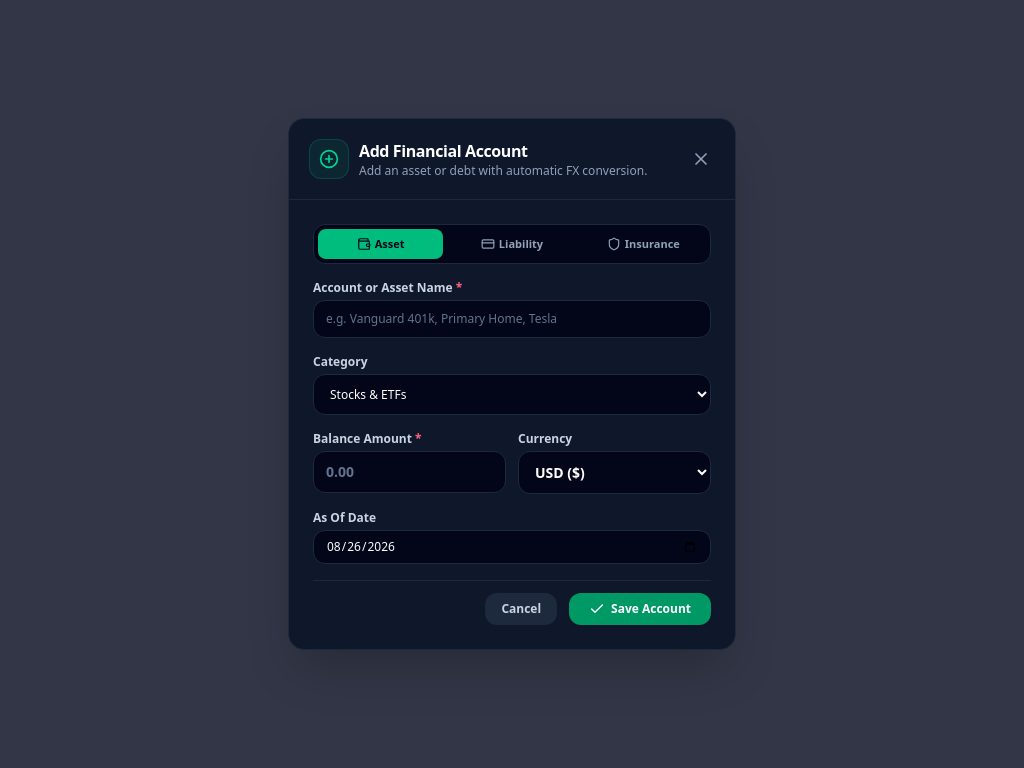
Test: AddItemModal › selects existing categories and auto updates type
Select "Mortgage" in the dropdown below "Category" at (512, 395), box [313, 374, 711, 415]
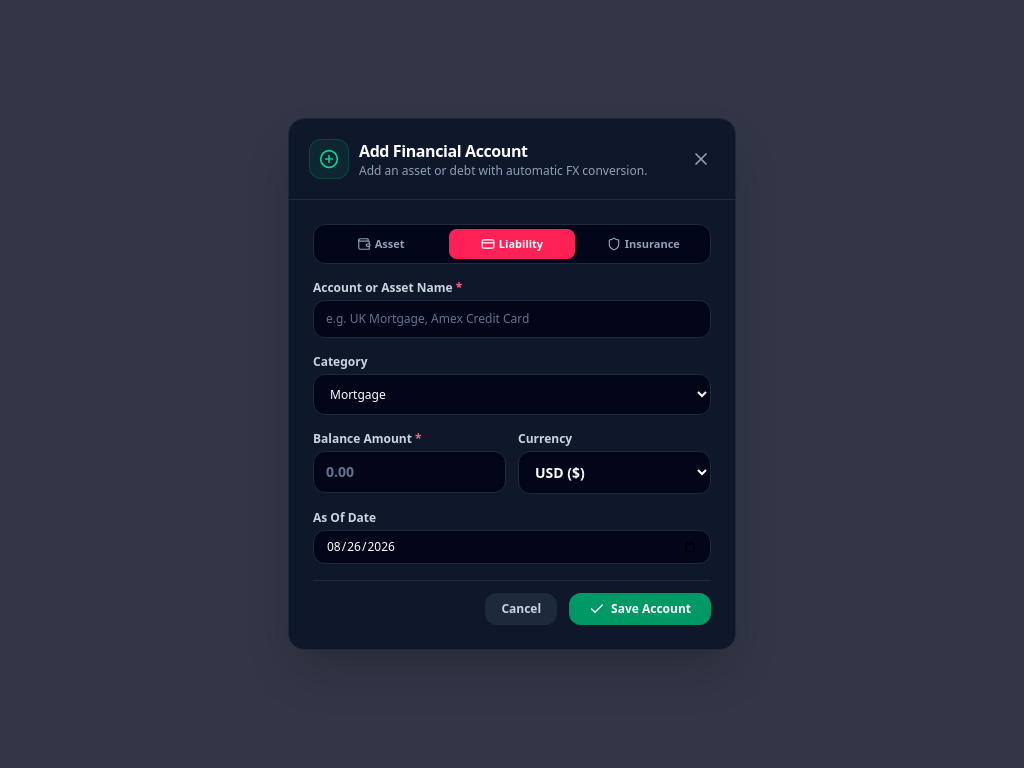
Expected: the field with placeholder "e.g. UK Mortgage, Amex Credit Card" is shown, [313, 300, 711, 338]
Select "Disability Insurance" in the dropdown below "Category" at (512, 395), box [313, 374, 711, 415]
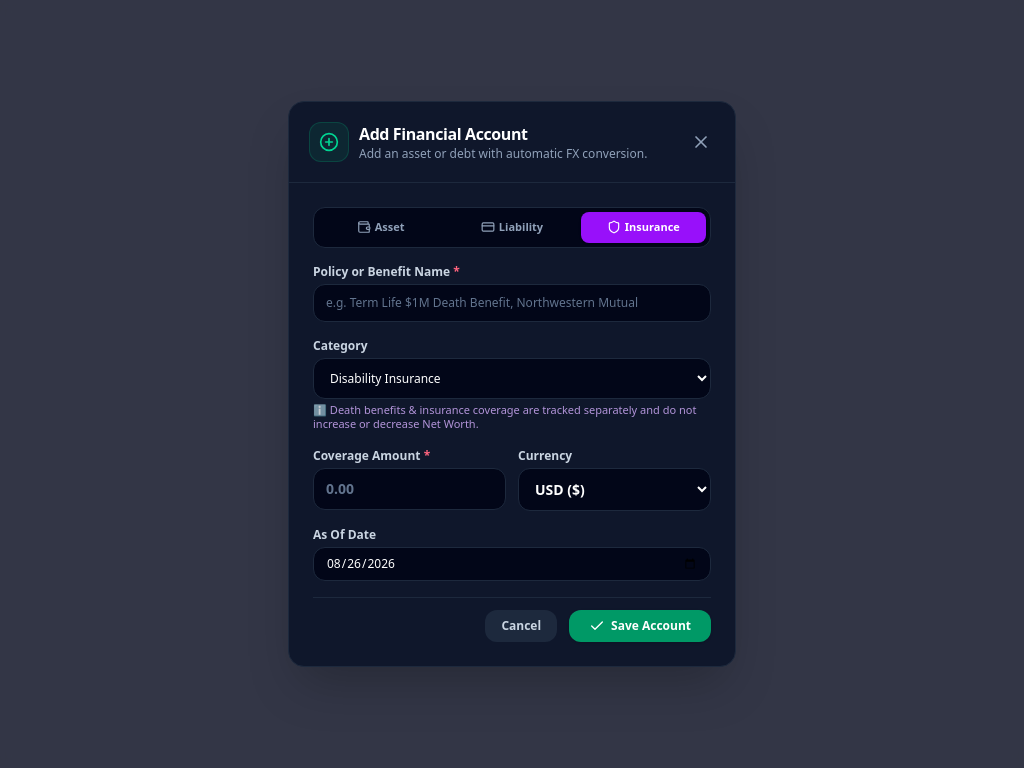
Expected: the field with placeholder "e.g. Term Life $1M Death Benefit, Northwestern Mutual" is shown, [313, 284, 711, 322]
Select "Real Estate" in the dropdown below "Category" at (512, 378), box [313, 358, 711, 399]
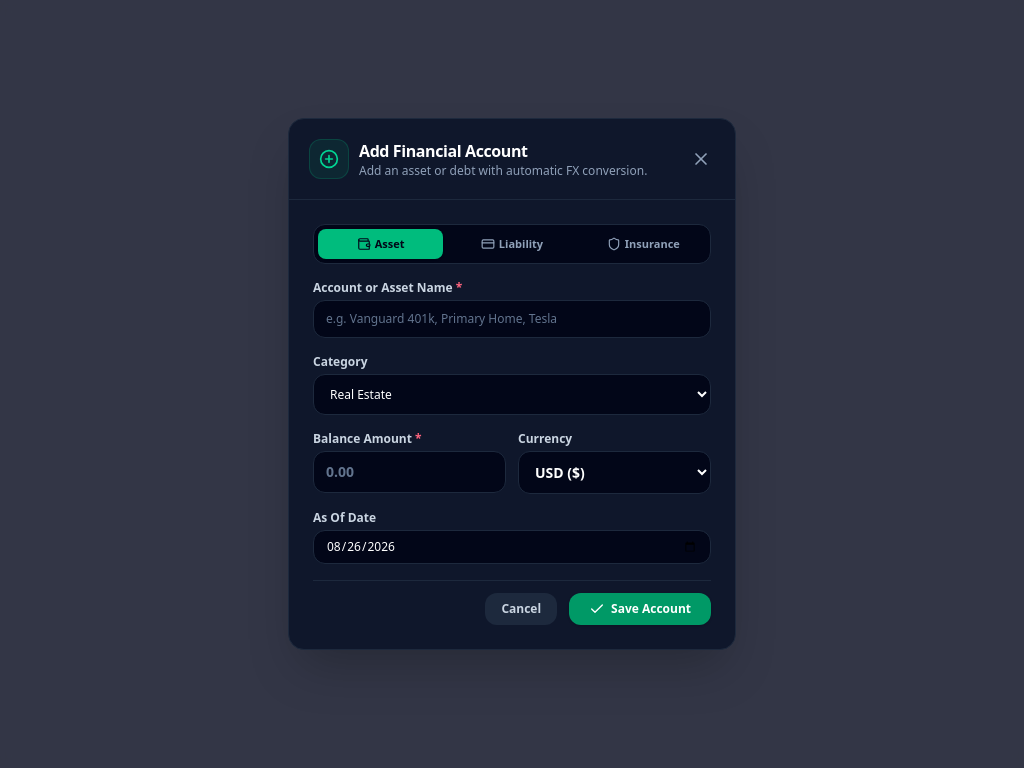
Expected: the field with placeholder "e.g. Vanguard 401k, Primary Home, Tesla" is shown, [313, 300, 711, 338]
